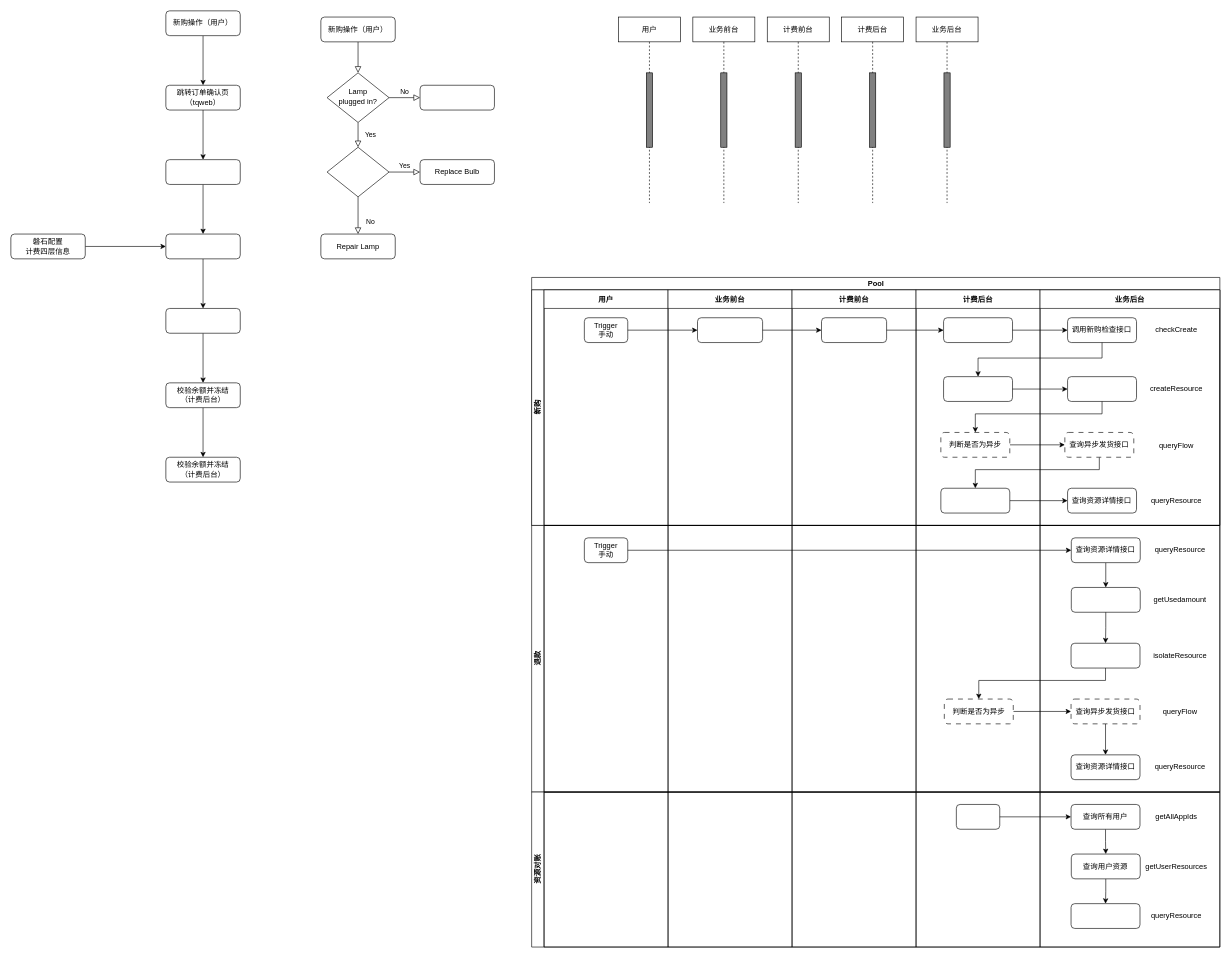
This 1231x958 diagram has some shape labels left out. The centre of each missing label's shape, as x and y in pixels:
Bulb burned out?: (357,172)
Plug in lamp: (456,97)
Trigger 每日: (978,816)
冻结并扣费: (975,500)
新购操作: (730,330)
查询资源详情: (1105,915)
校验余额并冻结: (978,388)
询价和折扣 （计费后台）: (202,246)
调用下单并支付 接口: (978,330)
调用下单并支付接口（计费前台 jssdk）: (202,171)
调用发货接口: (1102,388)
调用新购检查接口 （TCIC）: (202,320)
调用查询 套餐包 已使用量接口: (1105,599)
调用预付费 资源隔离接口: (1105,655)
跳转订单确认页: (854,330)
